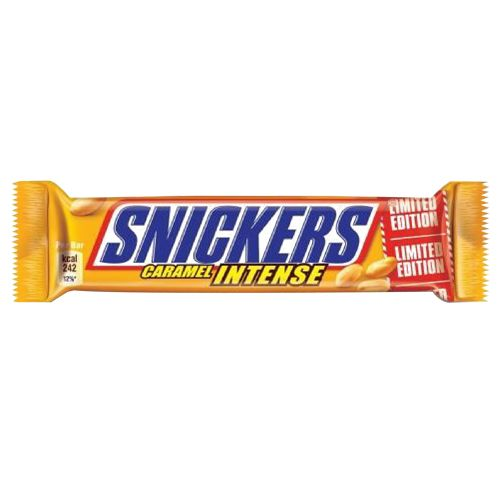snickers: (100, 203, 374, 263)
